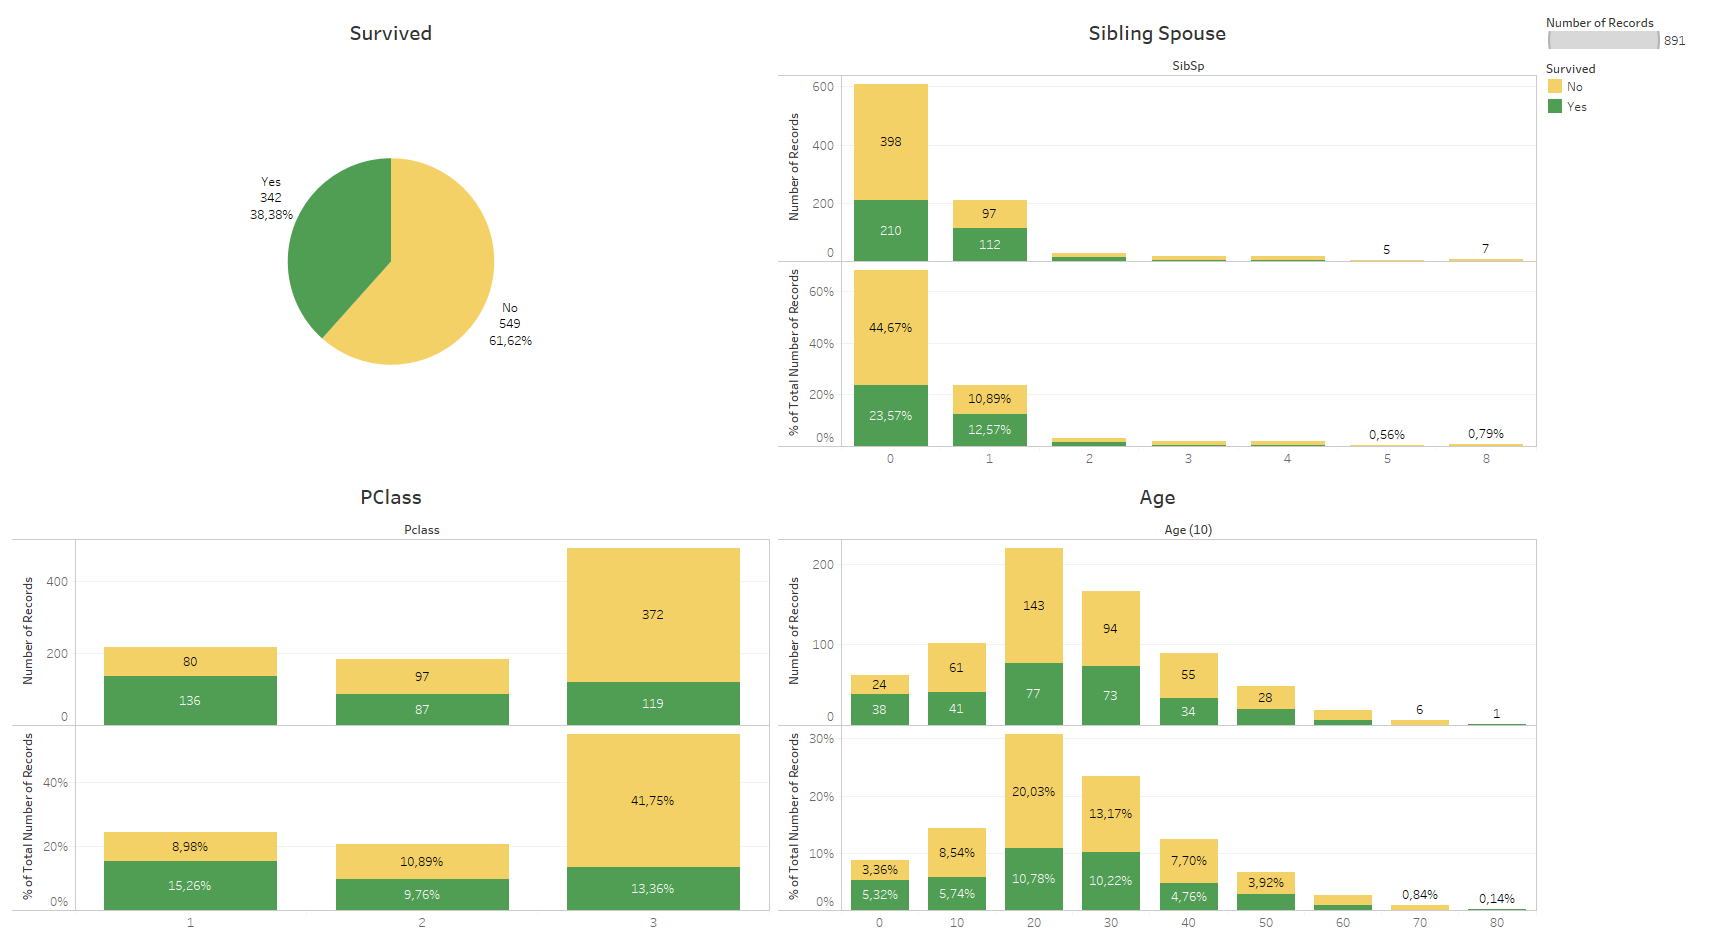

Layout of this report page (visuals, bound fields, positions):
{"tool":"tableau","page":{"name":"Report","canvas":[1000,1000],"units":"permille","ordinal":0},"visuals":[{"type":"worksheet","title":"Survived","mark":"Pie","box":[4.7,8.5,448.5,491.5]},{"type":"worksheet","title":"Sibling Spouse","mark":"Automatic","rows":["Number of Records","Number of Records"],"cols":["SibSp"],"box":[453.2,8.5,448.6,491.5]},{"type":"legend","title":"Survived","param":"[federated.1k5ihd51cbc3k113dtytt191uhcs].[sum:Number of Records:qk]","box":[901.7,8.5,93.6,48.7]},{"type":"legend","title":"Survived","param":"[federated.1k5ihd51cbc3k113dtytt191uhcs].[none:Survived:ok]","box":[901.7,57.2,93.6,69.9]},{"type":"worksheet","title":"PClass","mark":"Automatic","rows":["Number of Records","Number of Records"],"cols":["Pclass"],"box":[4.7,500,448.5,491.6]},{"type":"worksheet","title":"Age","mark":"Automatic","rows":["Number of Records","Number of Records"],"cols":["Age (bin)"],"box":[453.2,500,448.6,491.6]}]}

Visuals, with their boxes on the dashboard's canvas, which has no fixed pixel size, in thousandths of its width and height (x1, y1, x2, y2). These are canvas units, not pixel positions in the 1709x944 screenshot, which may show the page scaled, cropped or inside an application window:
"Survived" worksheet (Pie marks): 5:8:453:500
"Sibling Spouse" worksheet: 453:8:902:500
"Survived" legend: 902:8:995:57
"Survived" legend: 902:57:995:127
"PClass" worksheet: 5:500:453:992
"Age" worksheet: 453:500:902:992
